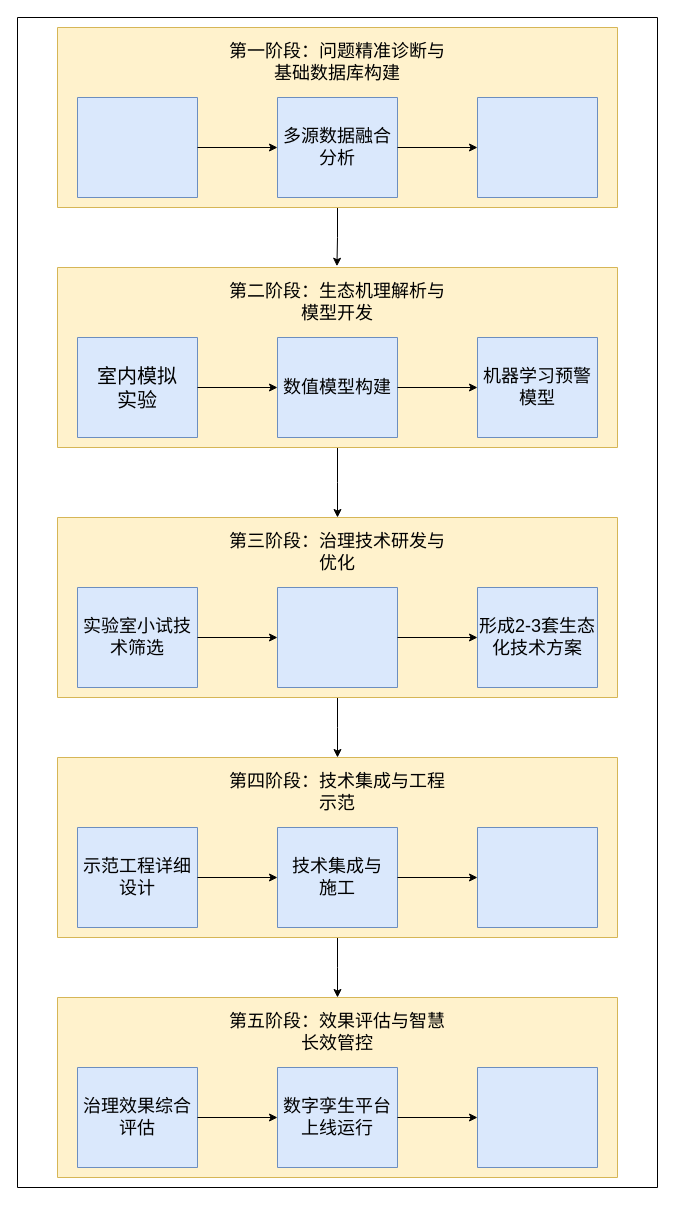
This 675x1205 diagram has some shape labels left out. The box of each missing label's shape, as (x1, y1, x2, y2) in pixels:
“一走到底”智能运维模式: (476, 1066, 598, 1168)
“点、线、面”示范区 运行: (476, 826, 598, 928)
全河段立体化调查监测: (76, 96, 198, 198)
构建本底数据库与 “一张图”: (476, 96, 598, 198)
现场中试参数优化: (276, 586, 398, 688)
